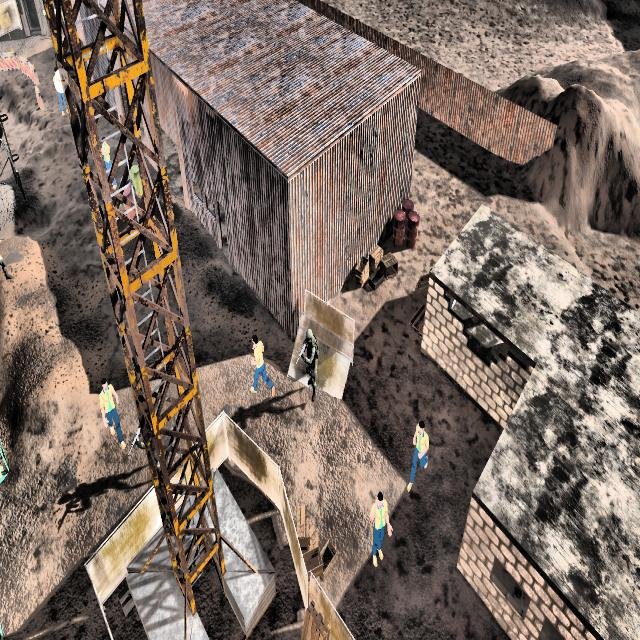bad: (296, 321, 324, 407)
good: (92, 371, 130, 464), (403, 398, 433, 498), (365, 479, 394, 580), (244, 323, 278, 407), (98, 131, 117, 183)
